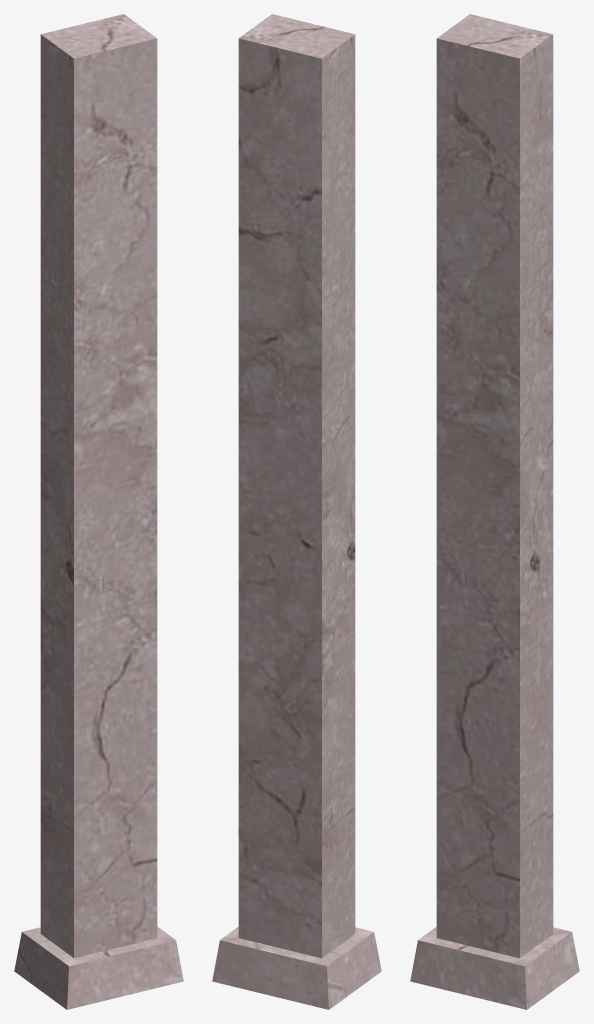
File: pasted__marble_tiles_pink_17.fbx
3 views of the same model, side by side, from view 1: azimuth 30°, elevation 25°; view 2: azimuth 150°, elevation 25°; view 3: azimuth 330°, elevation 25° (orthographic).
Visible parts, largest first — view 1: pasted__marble_tiles_pink_17; view 2: pasted__marble_tiles_pink_17; view 3: pasted__marble_tiles_pink_17.
Boxes of the visible parts, x1,y1,x2,y2 form: pasted__marble_tiles_pink_17: (14, 14, 183, 1009); pasted__marble_tiles_pink_17: (212, 14, 381, 1009); pasted__marble_tiles_pink_17: (410, 14, 579, 1009).
Bounding box in the file's own units: 18.51 × 14.48 × 142.
